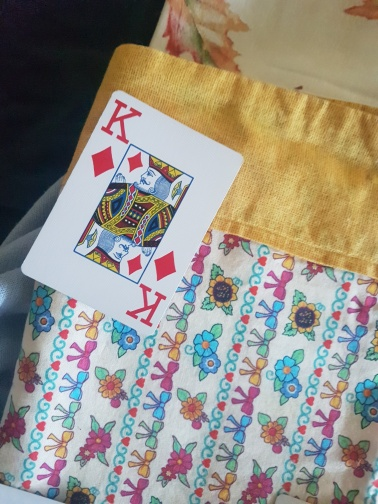king: (20, 91, 242, 333)
